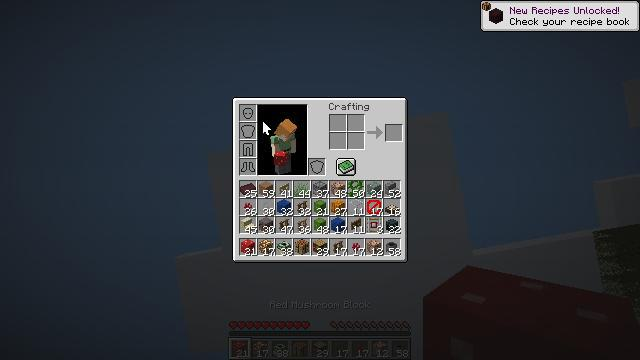cursor: (262, 120, 272, 136)
